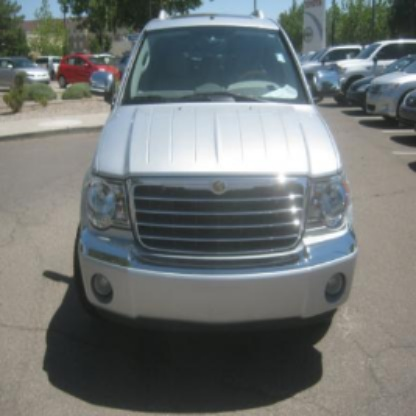Vehicle: (75, 7, 359, 340)
